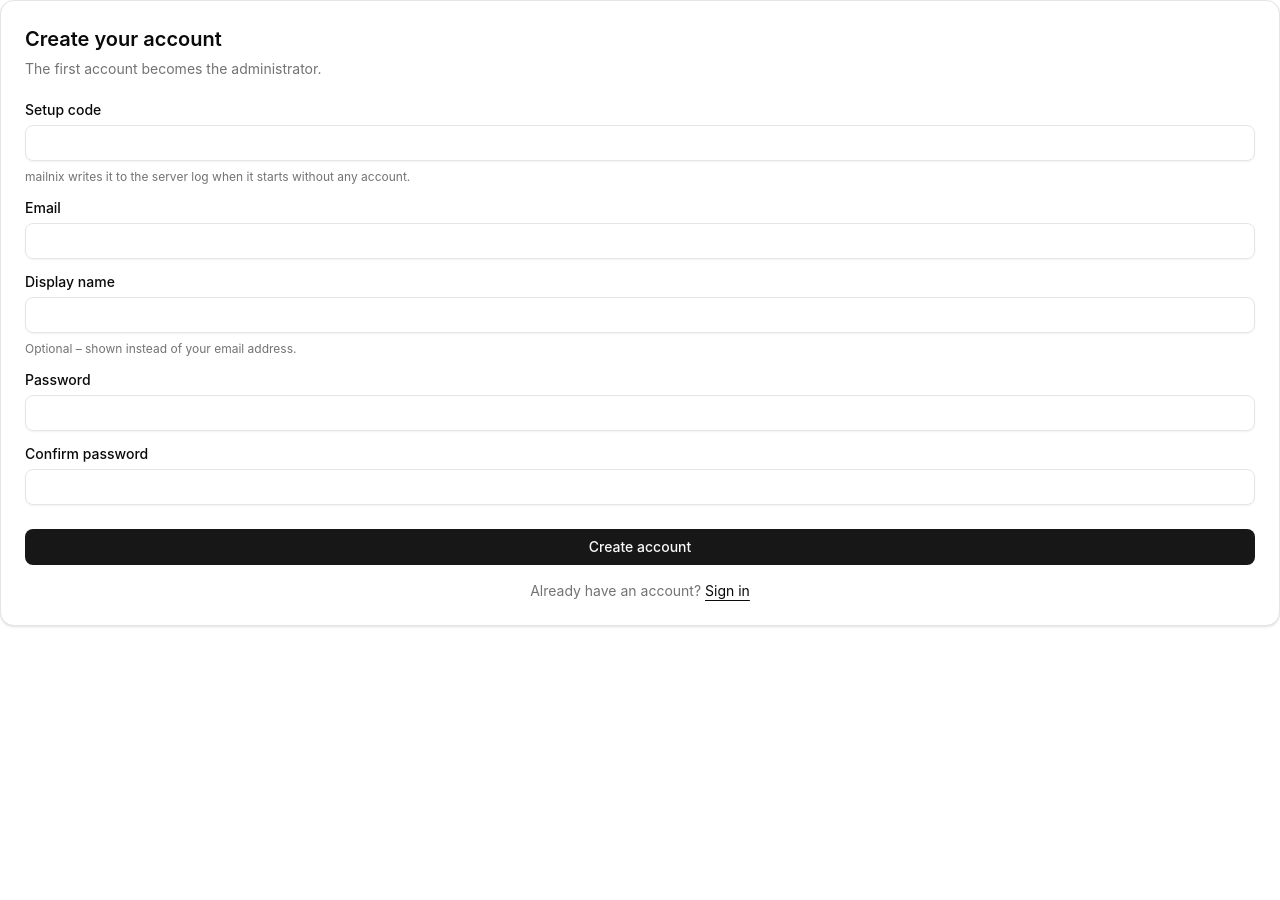
Test case: RegisterPage › translates a wrong setup code and needs none once accounts exist
In the field with id "setup-code": (640, 143) [25,125,1255,161], type "WRONG"
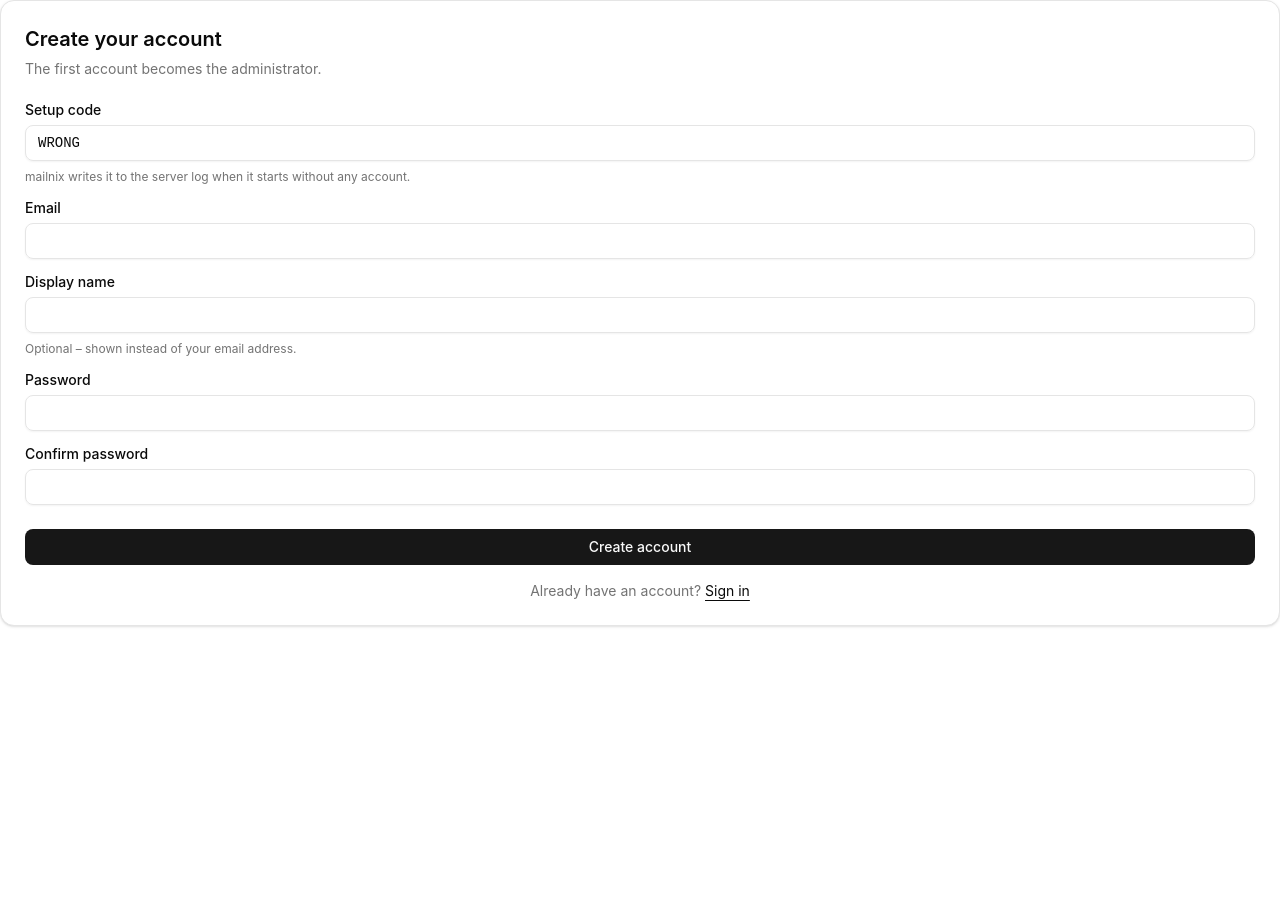
In the field with id "email": (640, 241) [25,223,1255,259], type "owner@example.com"
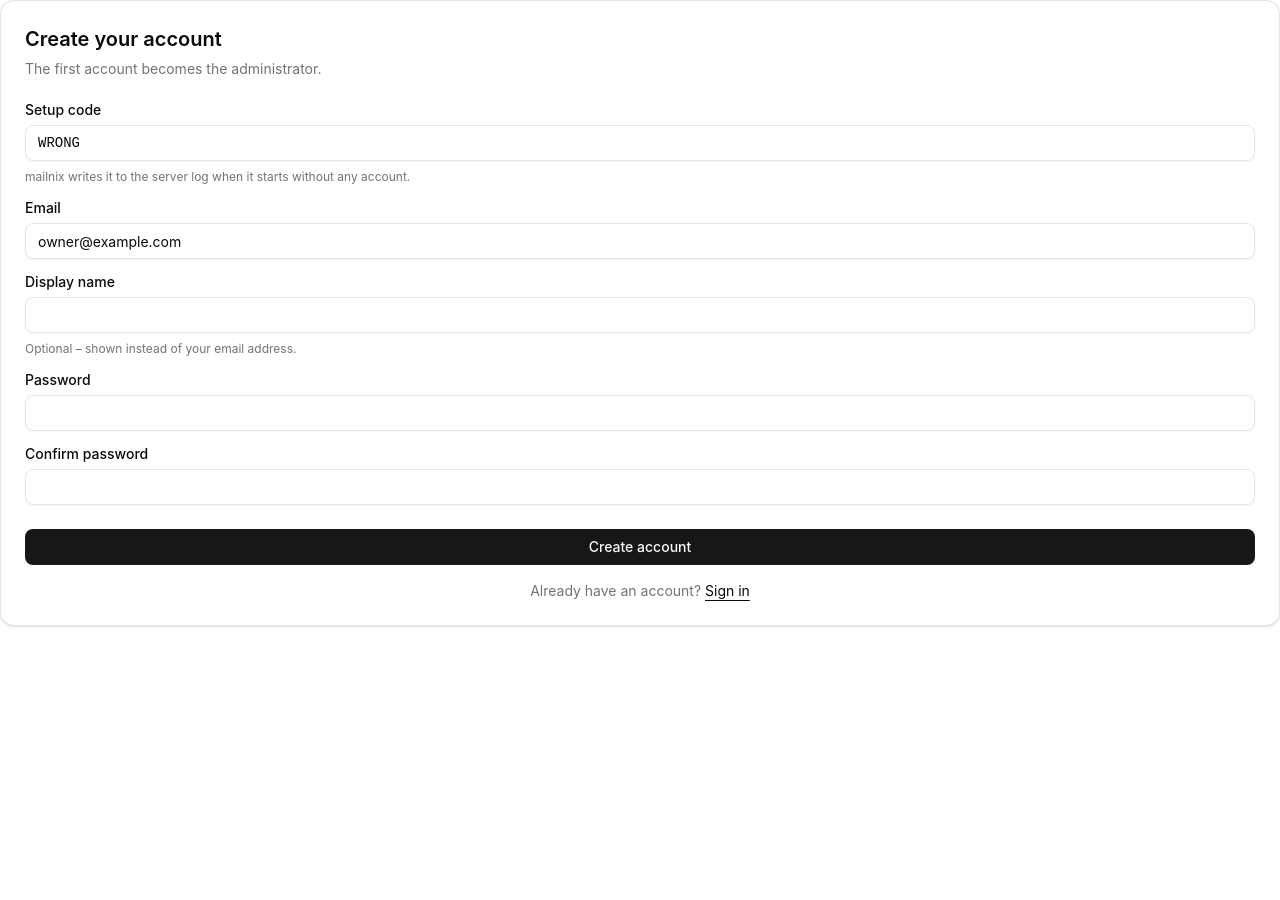
In the password field labelled "Password": (640, 413) [25,395,1255,431], type "correct horse battery"
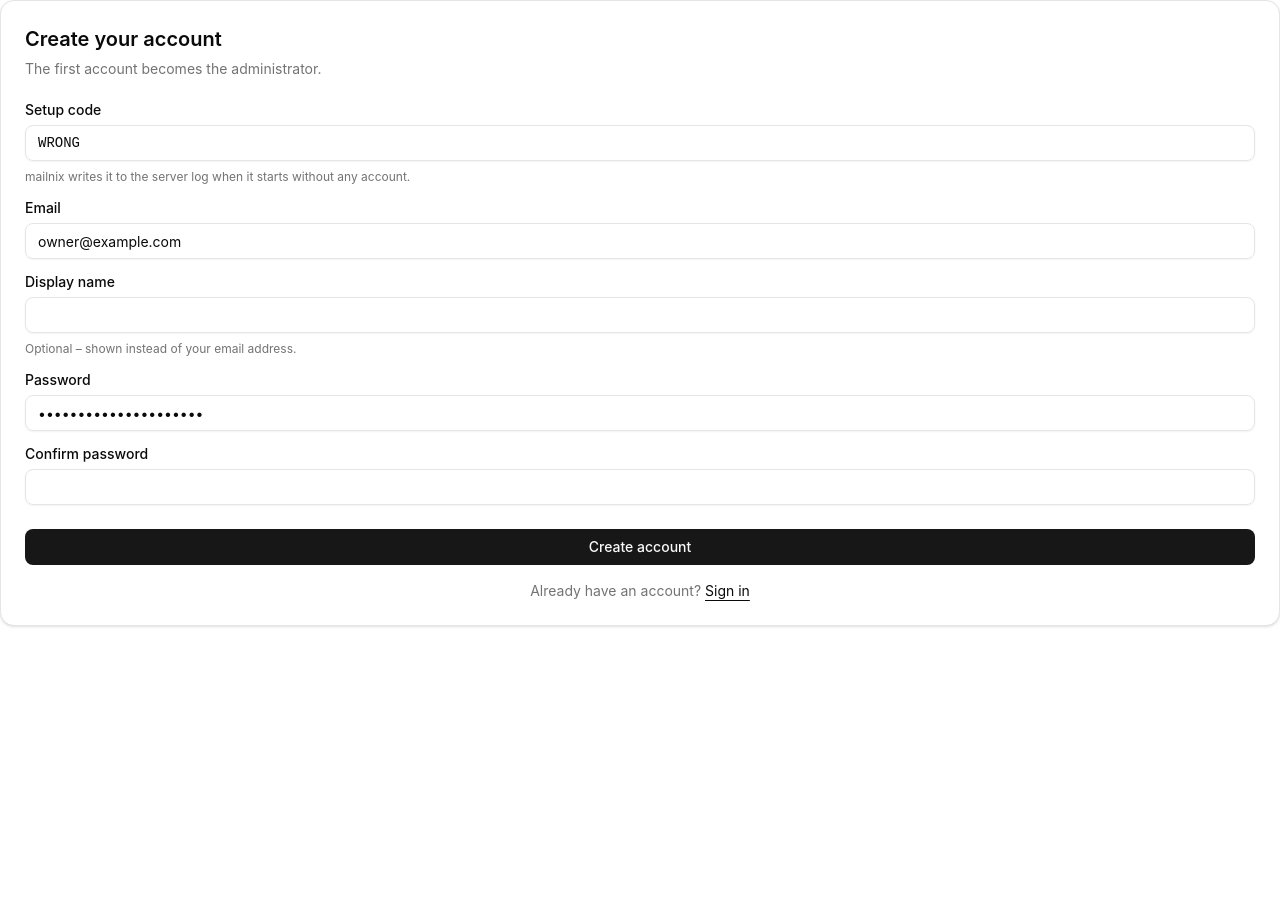
In the password field with id "confirm-password": (640, 487) [25,469,1255,505], type "correct horse battery"
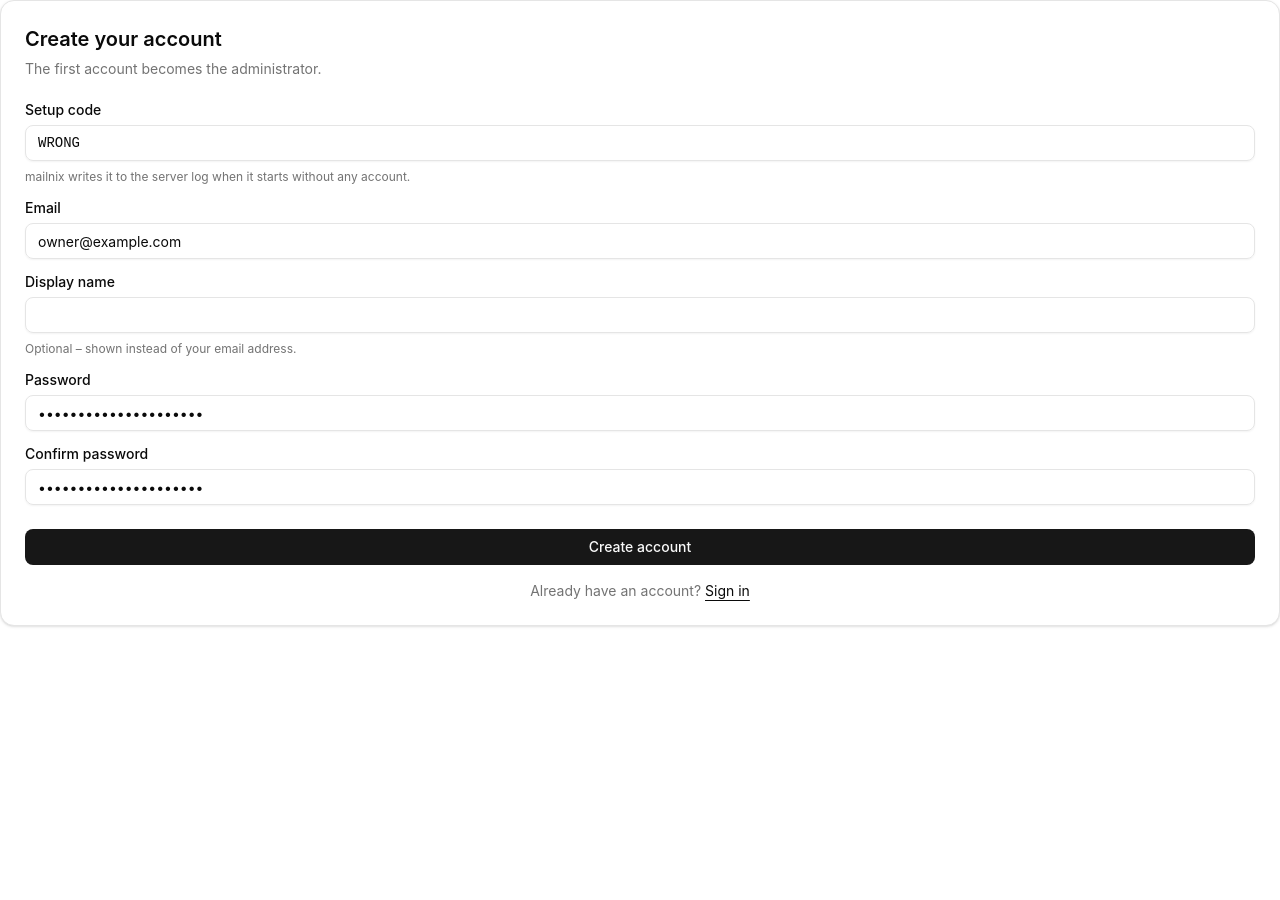
Submit the form, box [1,103,1279,601]
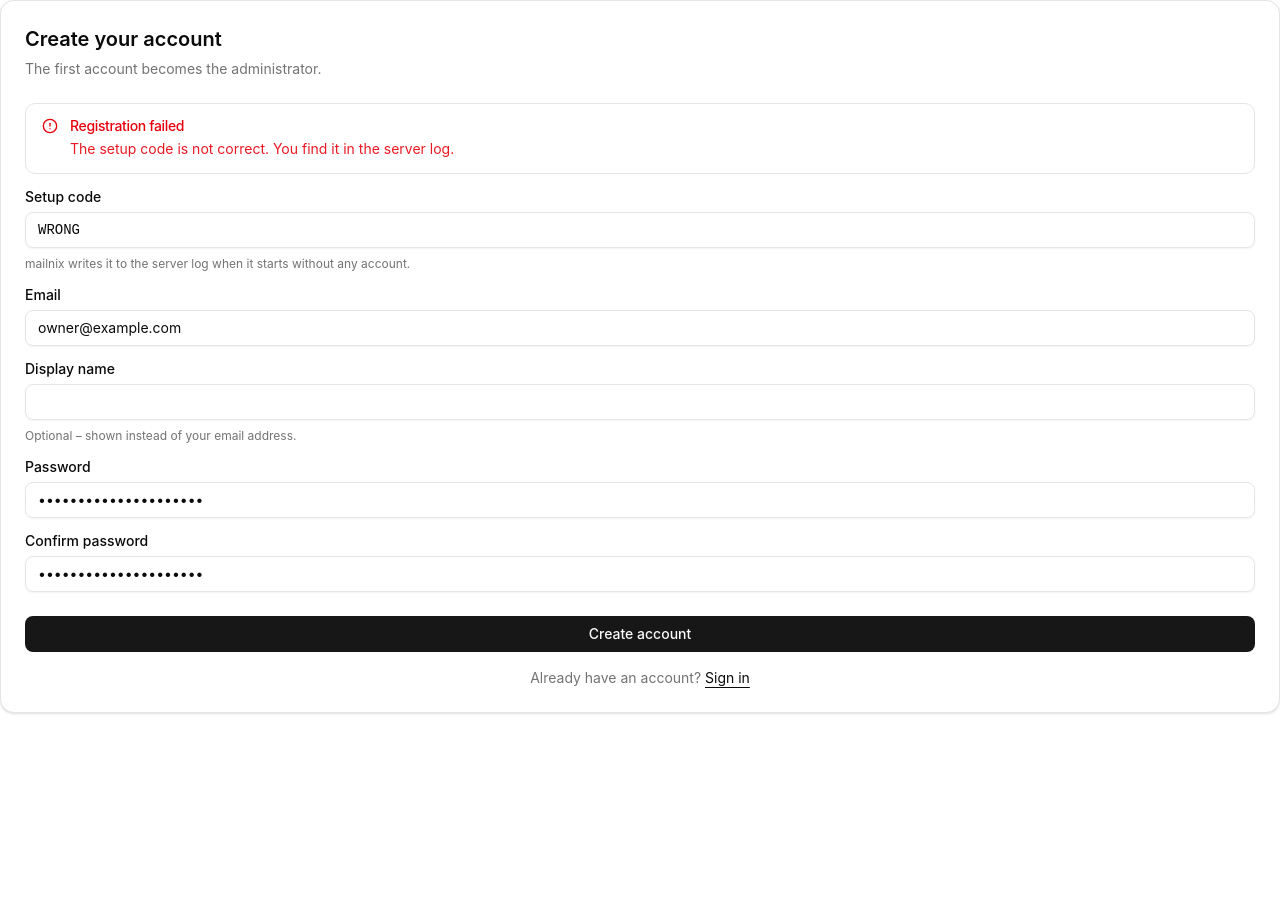
Check: the message with test id "register-error" shows "The setup code is not correct", box [70,140,454,157]
